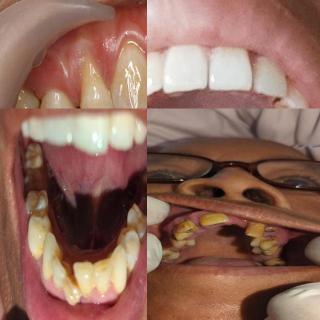Gum Swelling: (96, 28, 147, 96), (43, 39, 91, 105)
calculus: (245, 223, 265, 237), (168, 240, 196, 248), (170, 228, 190, 238), (263, 257, 286, 265), (244, 221, 264, 228), (179, 217, 193, 225)
cavities: (177, 217, 196, 233), (260, 234, 280, 242)
maligned: (111, 34, 147, 108), (147, 56, 167, 108), (61, 274, 86, 308)
plaque: (96, 269, 118, 304), (80, 274, 98, 300)
stains: (33, 240, 49, 268), (201, 212, 229, 226), (270, 88, 288, 108), (254, 239, 276, 247), (165, 248, 180, 256), (115, 263, 118, 265)
